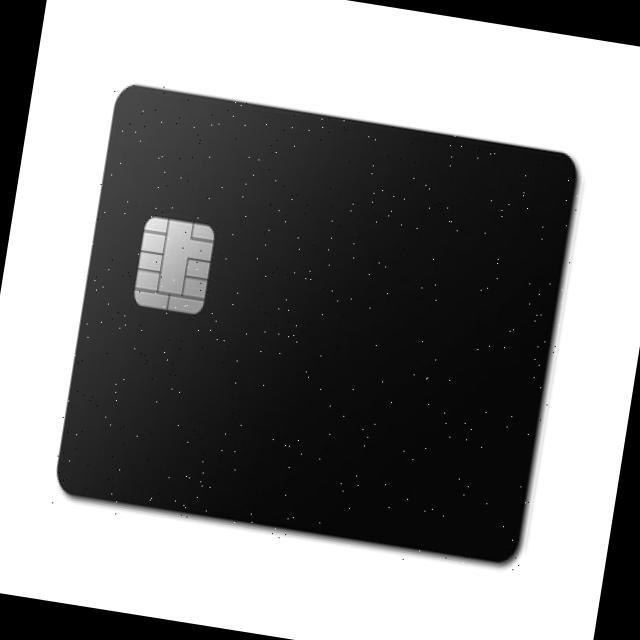payment_card: (55, 82, 579, 565)
